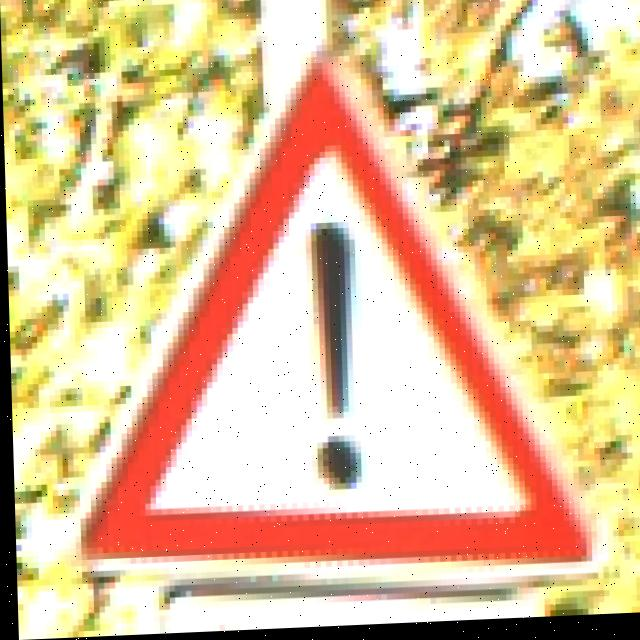warning: (76, 57, 609, 607)
